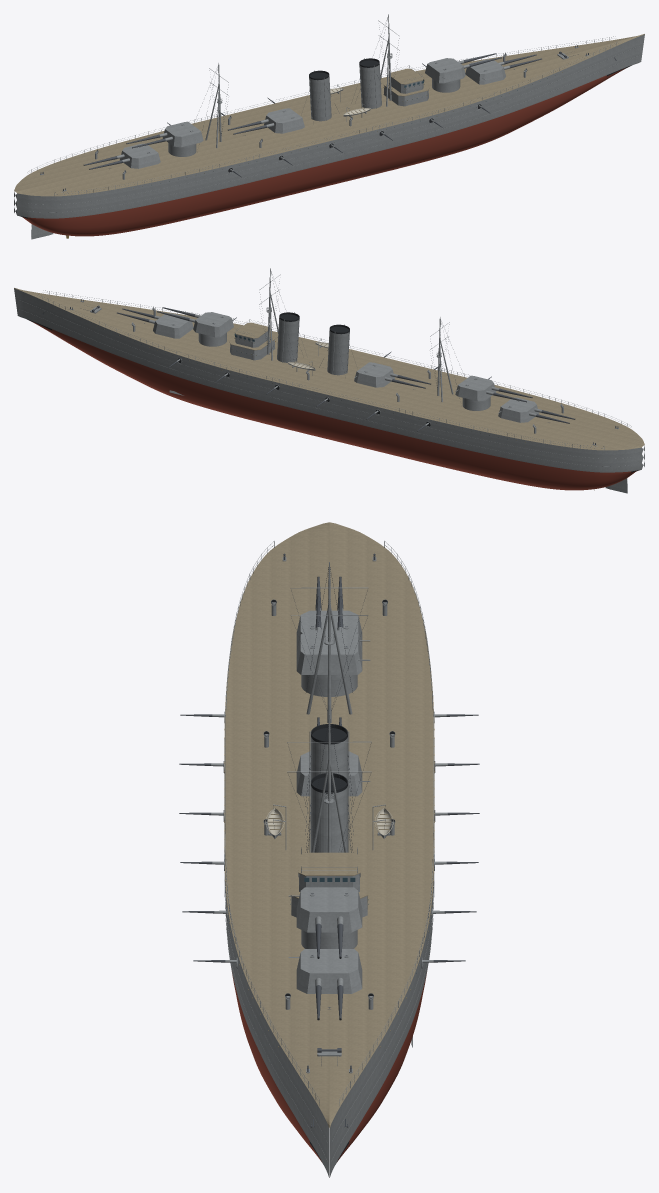
File: iron_duke.glb
3 renders of one model, top to bottom at view 1: azimuth 30°, elevation 25°; view 2: azimuth 150°, elevation 25°; view 3: azimuth 270°, elevation 25°, orthographic. The views are drawn at different scales.
Parts seen in each view (by area): view 1: Iron Duke class; view 2: Iron Duke class; view 3: Iron Duke class.
Part boxes in pixels (x1,y1,x2,y2): Iron Duke class: (14, 14, 644, 239); Iron Duke class: (14, 268, 644, 493); Iron Duke class: (179, 522, 479, 1177).
Bounding box in the file's own units: 190 × 40.42 × 39.26.
8 materials, 2 textured.
